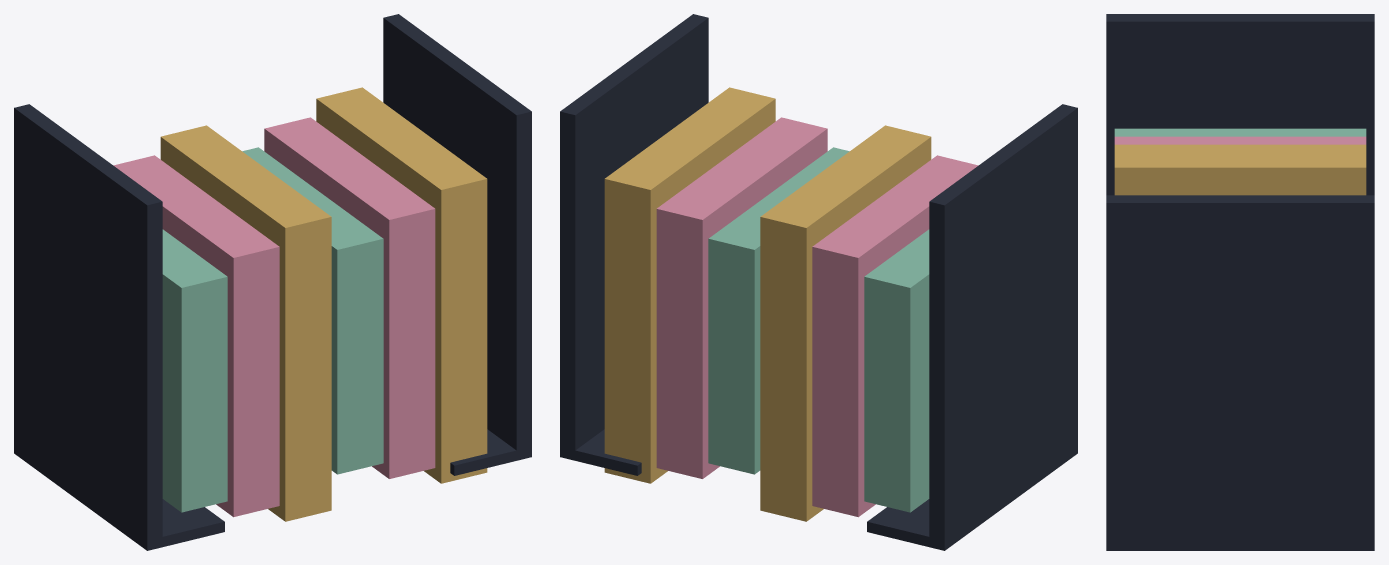
Rendered from bookends.glb.
The picture shows the model from 3 angles, left to right: view 1: azimuth 30°, elevation 25°; view 2: azimuth 150°, elevation 25°; view 3: azimuth 270°, elevation 25°; orthographic projection.
Visible parts, largest first — view 1: bookends; view 2: bookends; view 3: bookends.
Boxes of the visible parts, x1=… form: bookends: x1=14, y1=14, x2=531, y2=550; bookends: x1=560, y1=14, x2=1077, y2=550; bookends: x1=1106, y1=14, x2=1374, y2=550.
Size of the model in its own units: 25 by 22 by 15.
